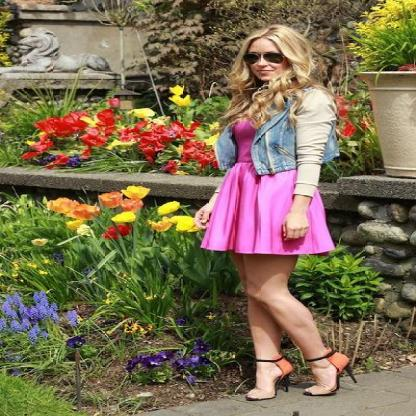dress: (194, 108, 336, 255)
jacket: (205, 75, 336, 191)
shoe: (246, 352, 354, 398)
sunglass: (242, 41, 292, 71)
